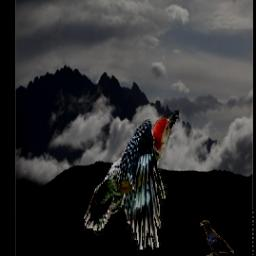Crow: (200, 221, 234, 256)
Woodpecker: (84, 109, 179, 250)
